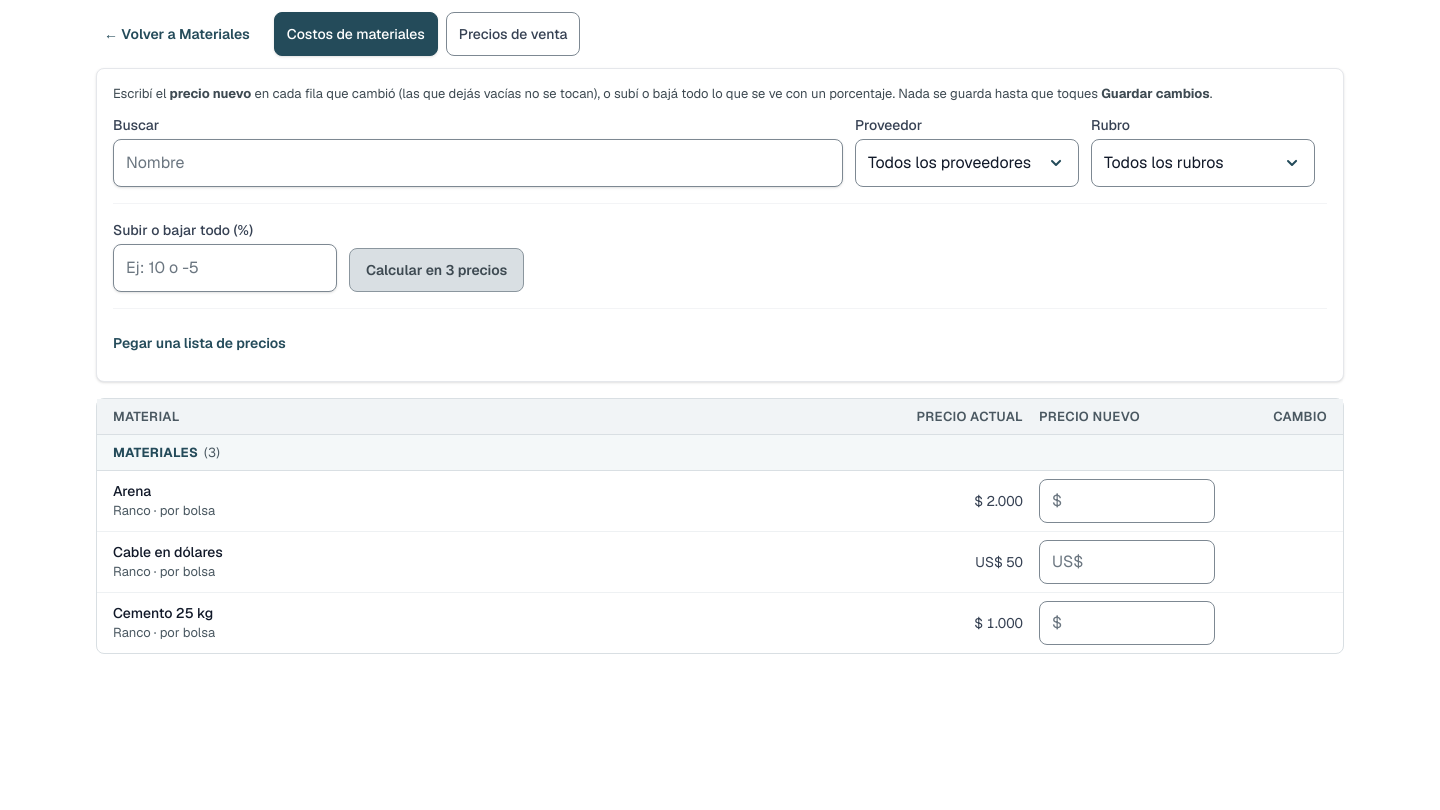
Actualizar precios › sólo se guardan las filas con un precio nuevo y distinto; hay que confirmar y se manda el campo correcto (USD para los cotizados en dólares)
Type "1.100" into the field named "Precio nuevo de Cemento 25 kg".
click(1127, 623); type("1.100")  # box [1039,601,1215,645]
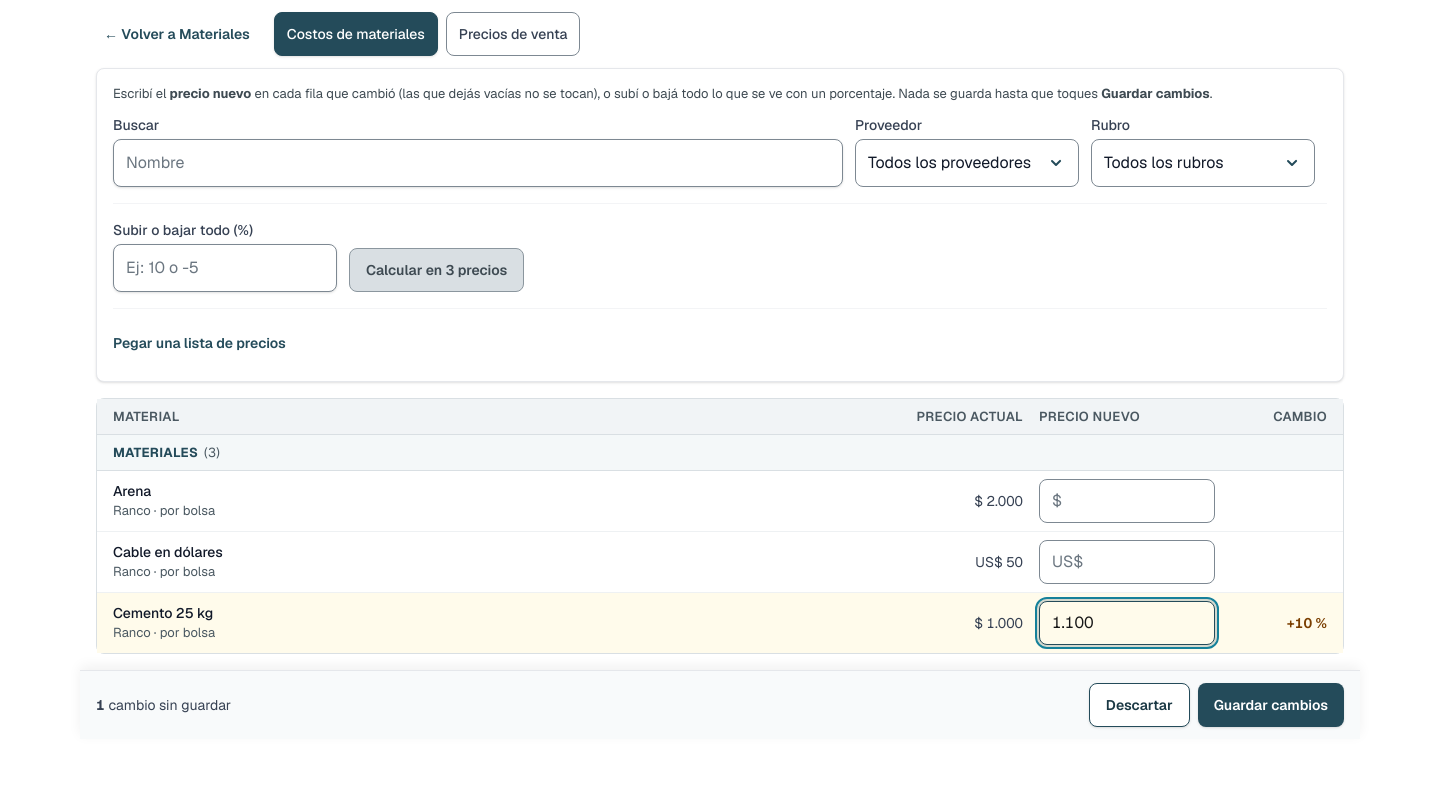
Type "2000" into the field named "Precio nuevo de Arena".
click(1127, 501); type("2000")  # box [1039,479,1215,523]
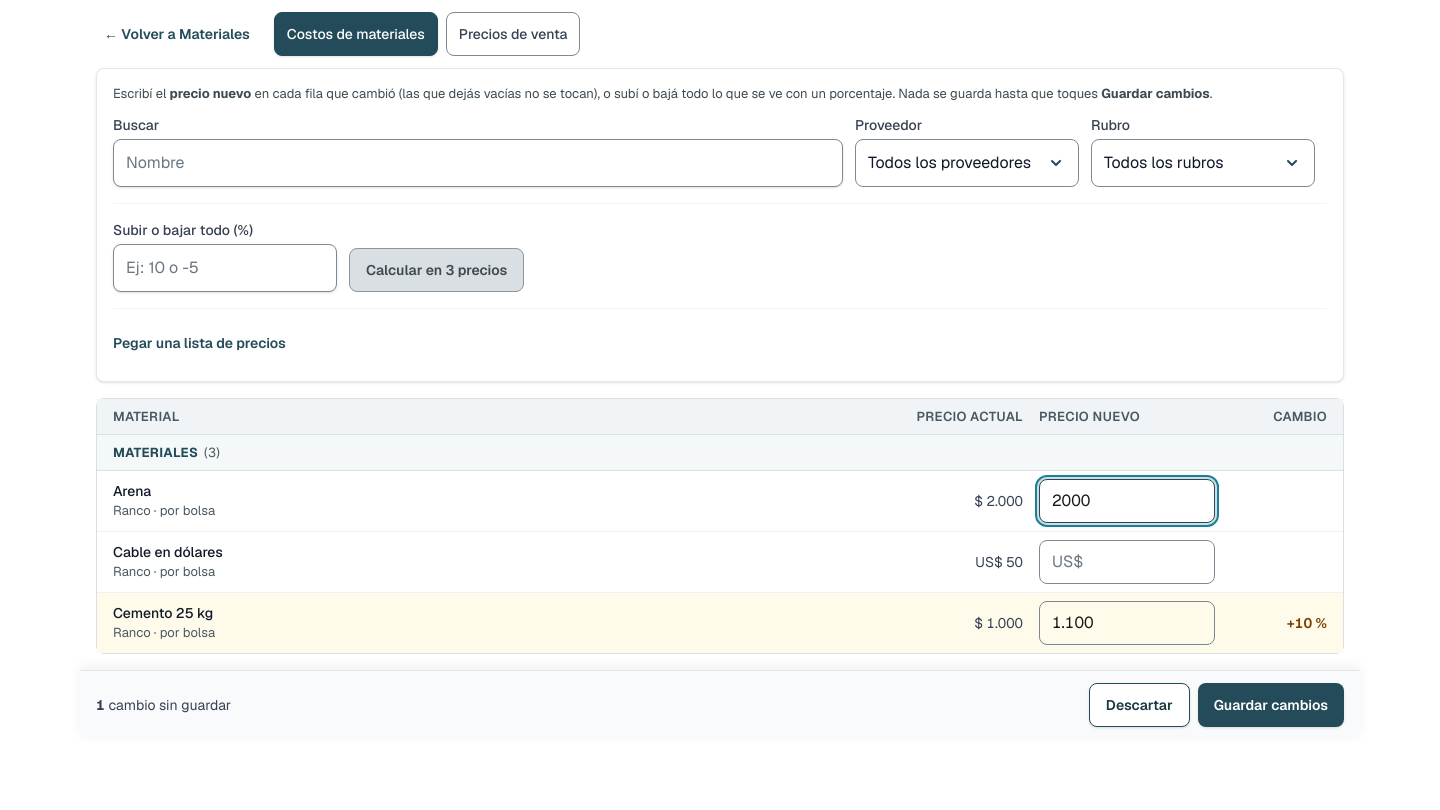
Type "55" into the field named "Precio nuevo de Cable en dólares".
click(1127, 562); type("55")  # box [1039,540,1215,584]
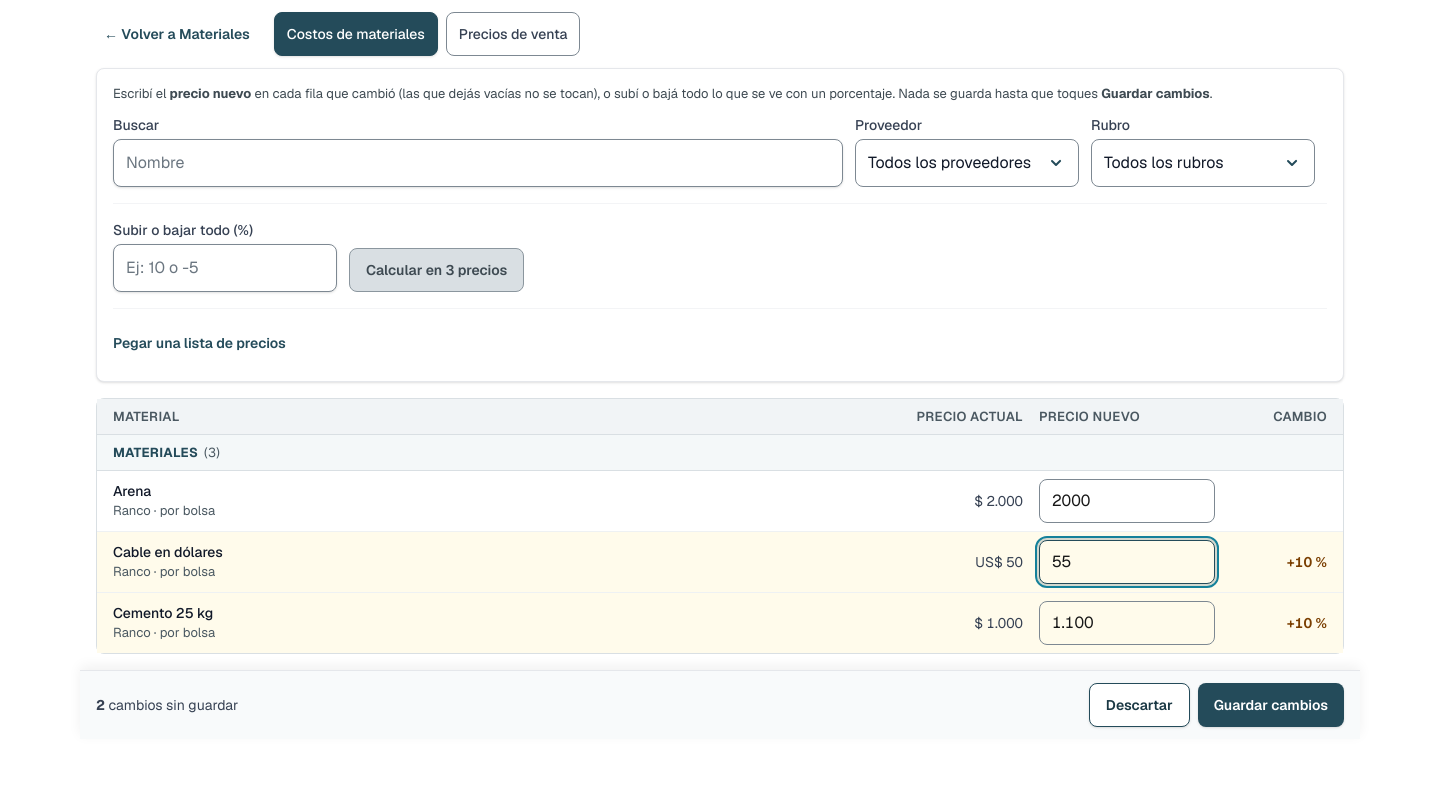
Result: the text "+10 %" is shown 2 times at [1287,553,1327,571]; [1287,614,1327,632]
Click the button "Guardar cambios".
click(1271, 705)  # box [1198,683,1344,727]
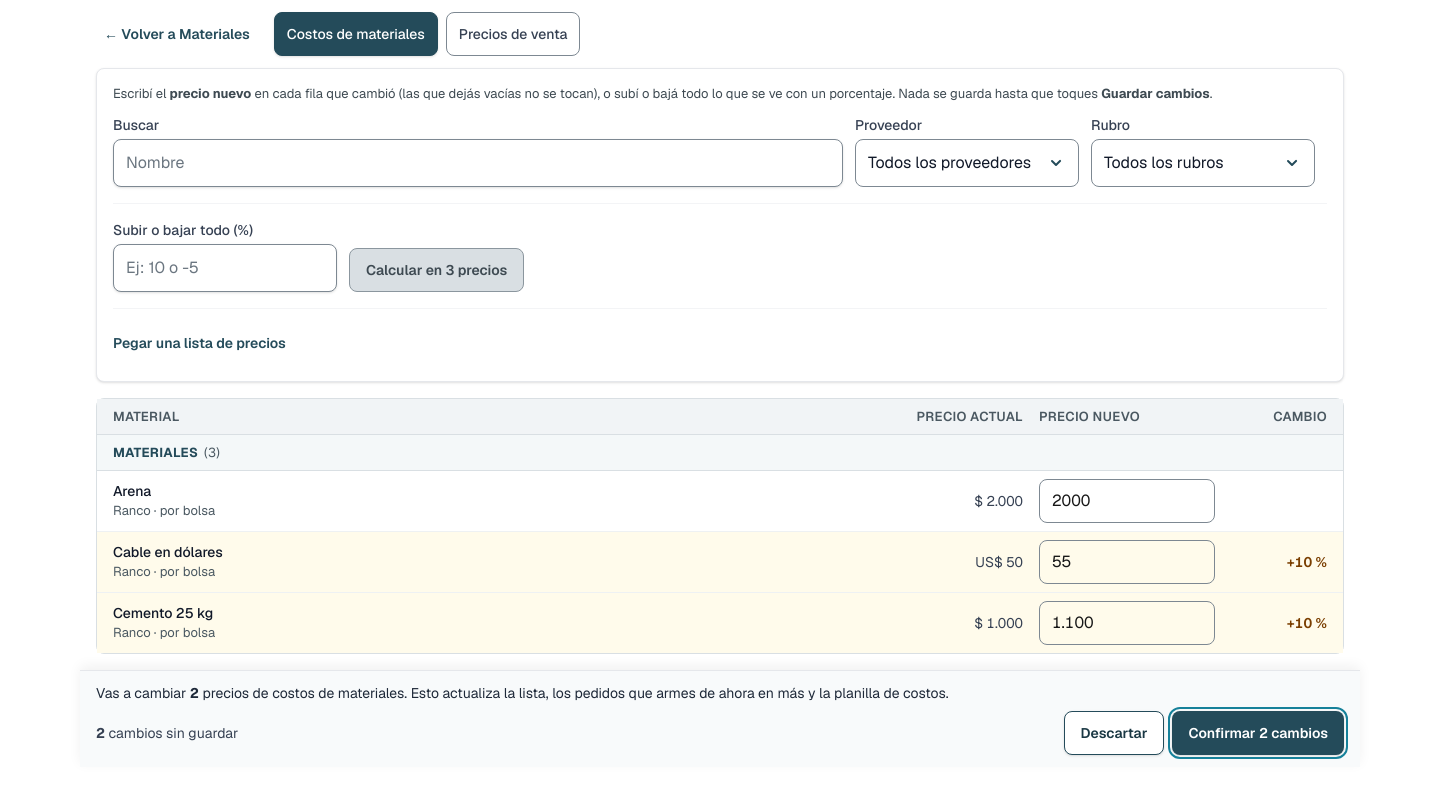
Click the button "Confirmar 2 cambios".
click(1258, 733)  # box [1172,711,1344,755]
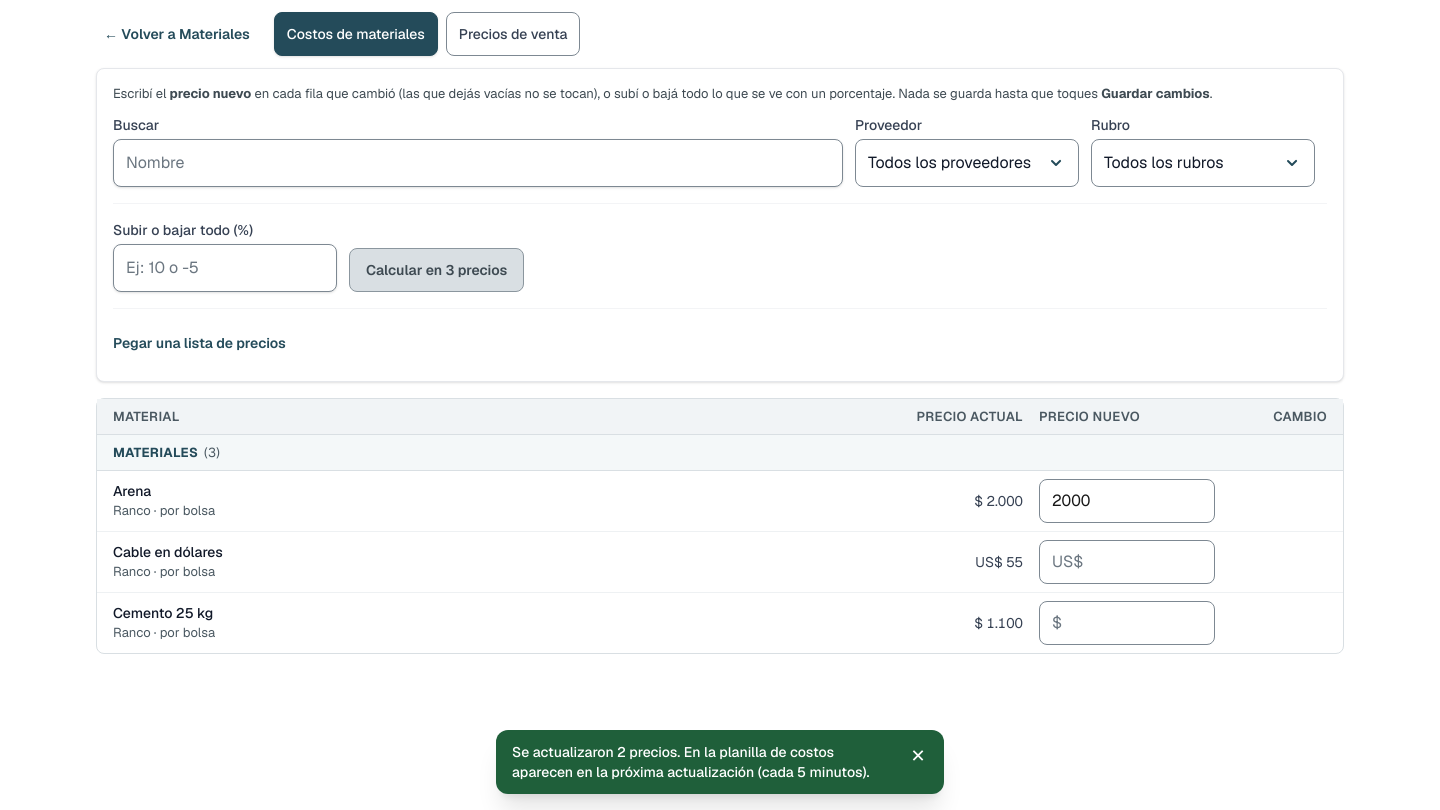
Result: the text "Se actualizaron 2 precios" is shown at [512,743,870,781]
Result: the text "$ 1.100" is shown at [974,614,1023,632]
